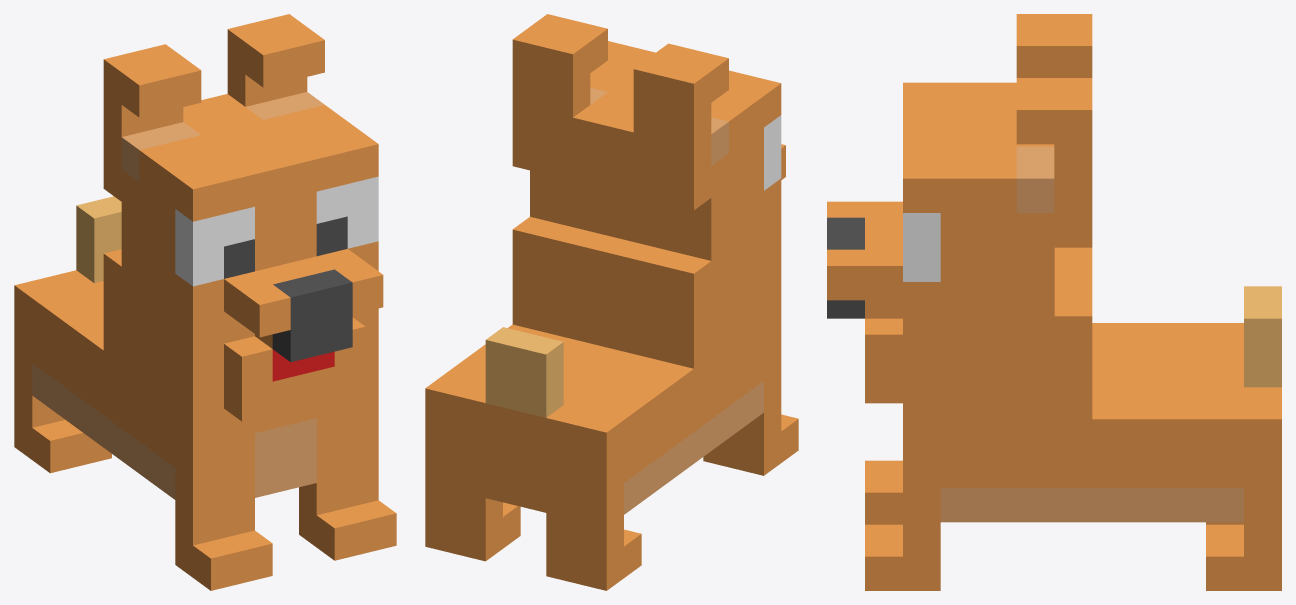
Rendered from pre_doggy.obj.
The picture shows the model from 3 angles, left to right: view 1: azimuth 30°, elevation 25°; view 2: azimuth 150°, elevation 25°; view 3: azimuth 270°, elevation 25°; orthographic projection. The views are drawn at different scales.
Parts seen in each view (by area): view 1: pre_doggy; view 2: pre_doggy; view 3: pre_doggy.
Boxes of the visible parts, x1,y1,x2,y2 form: pre_doggy: [14, 14, 396, 590]; pre_doggy: [425, 14, 798, 590]; pre_doggy: [827, 14, 1281, 590].
Size of the model in its own units: 6 by 14 by 12.
Materials: 1 (1 with a texture image).
